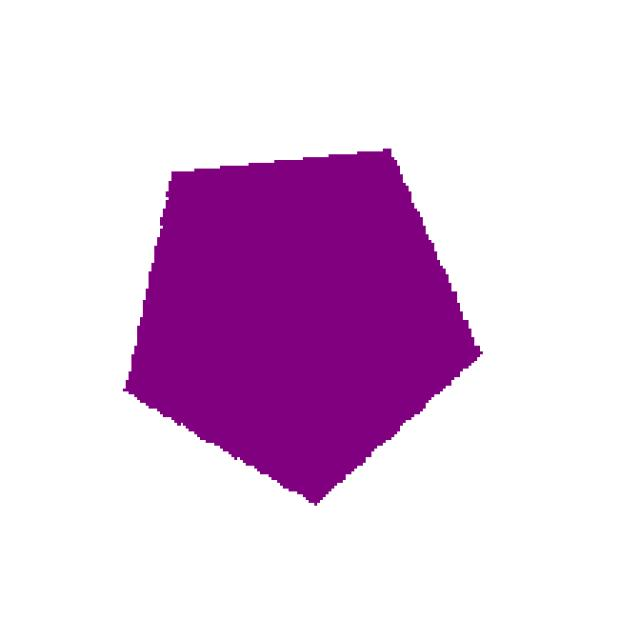Pentagon: (109, 132, 512, 537)
